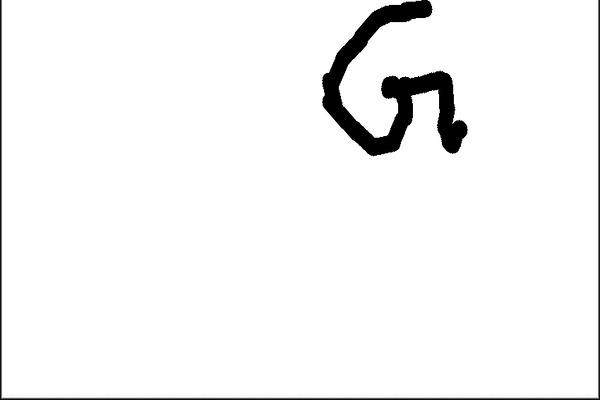G: (317, 7, 469, 162)
